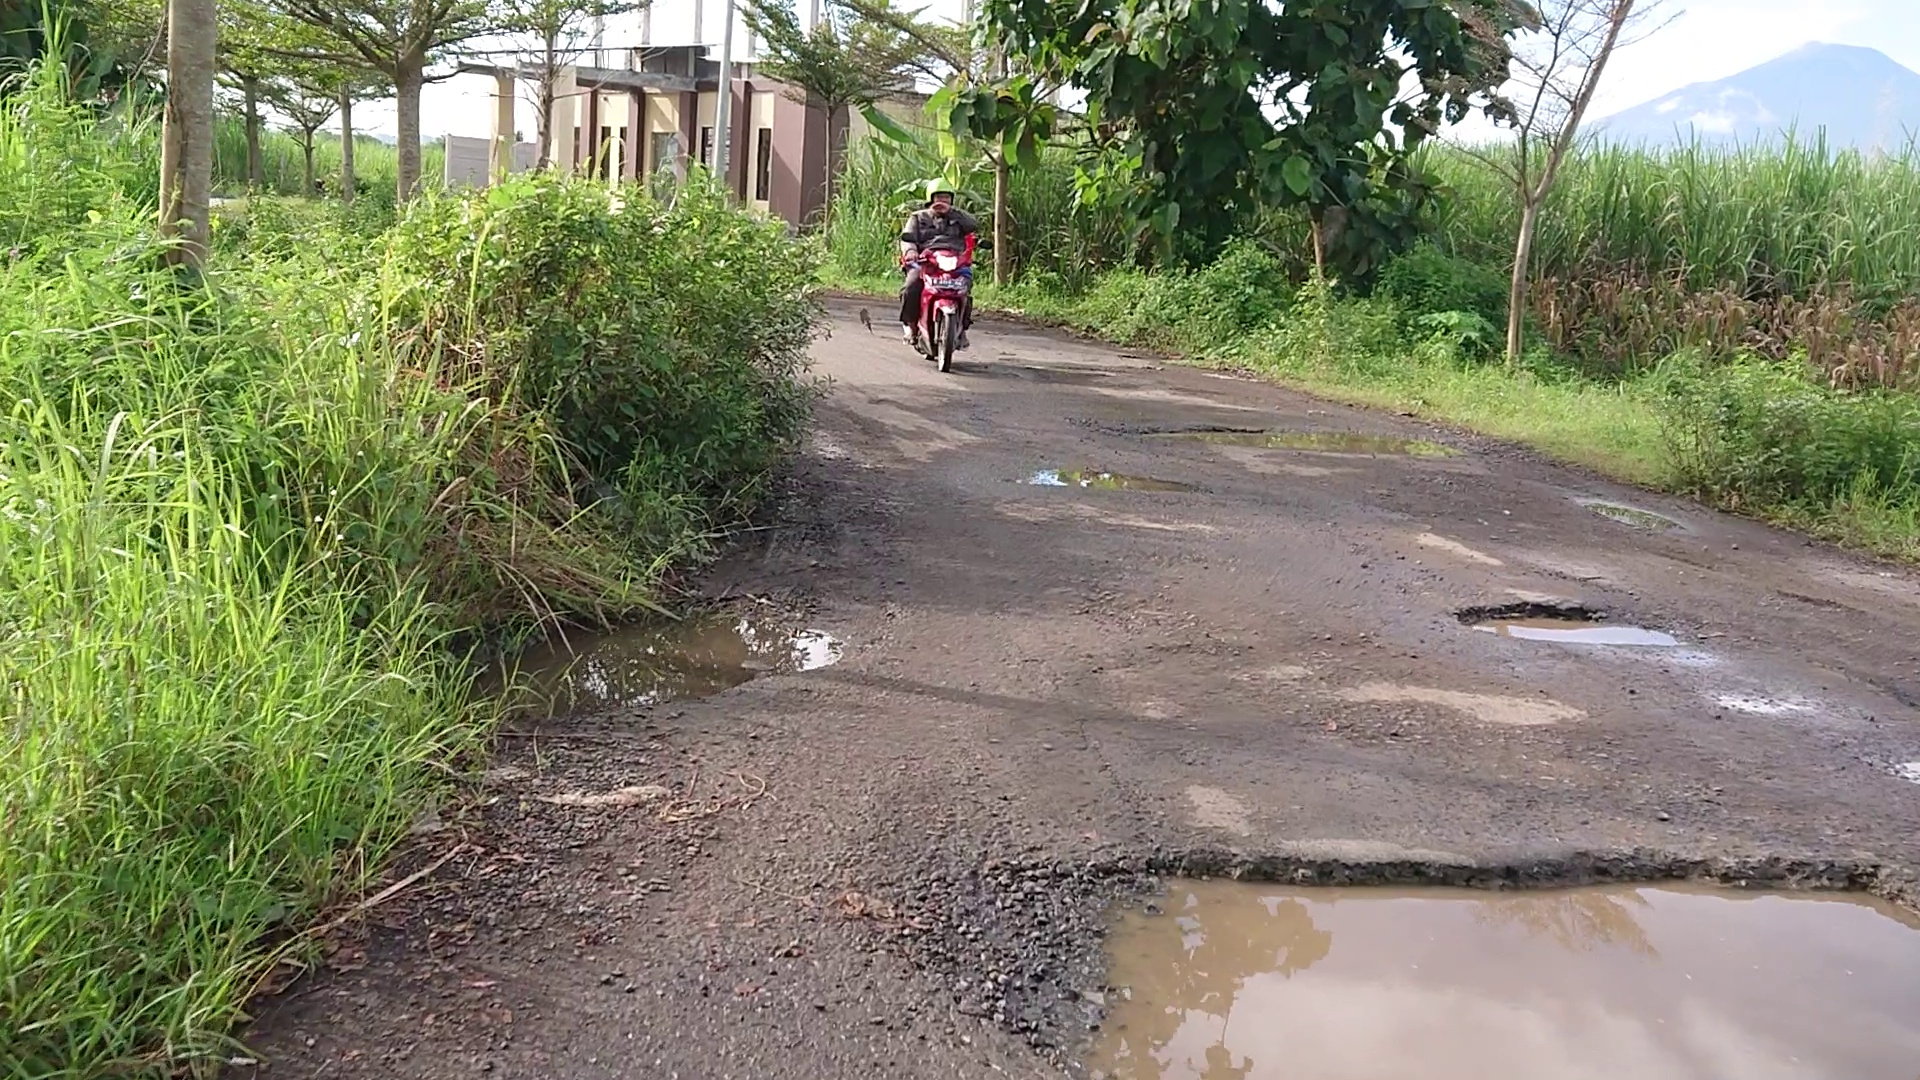Berlubang: (1162, 873, 1920, 1080), (1209, 421, 1416, 465), (1455, 604, 1677, 645)
